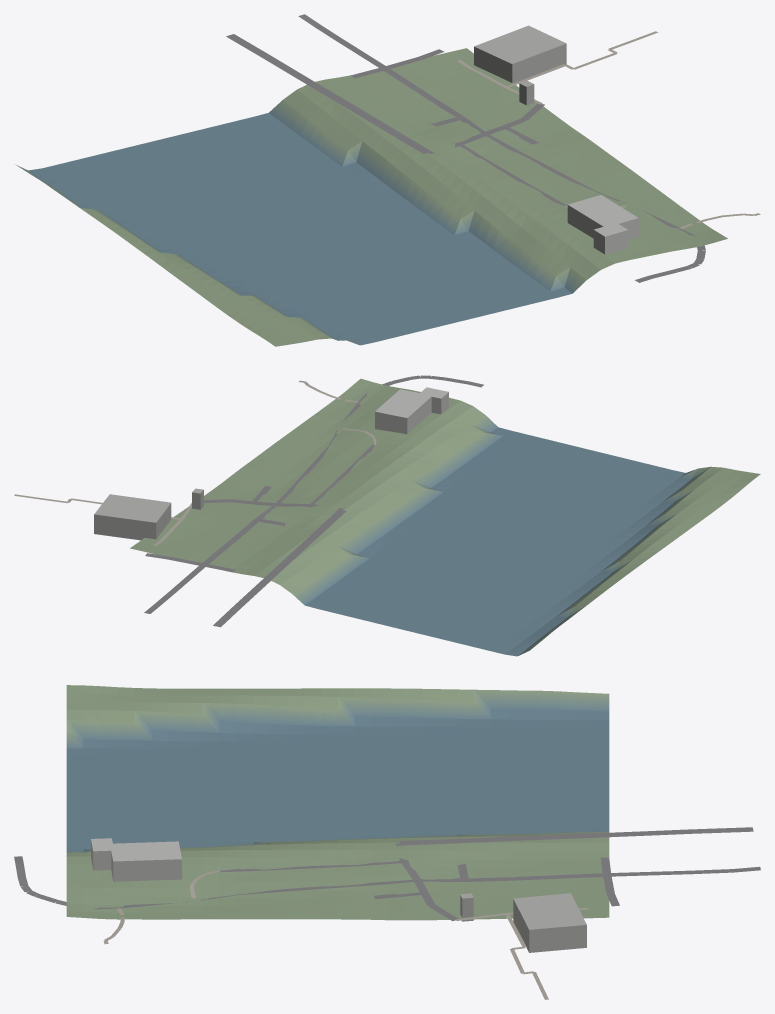
The model's file is tile_7_-6.glb.
3 renders of one model, top to bottom at view 1: azimuth 30°, elevation 25°; view 2: azimuth 150°, elevation 25°; view 3: azimuth 270°, elevation 25°, orthographic. The views are drawn at different scales.
Parts seen in each view (by area): view 1: terrain, buildings, roads; view 2: terrain, buildings, roads; view 3: terrain, buildings, roads.
Part boxes in pixels (x1,y1,x2,y2): terrain: (15,48,727,346); buildings: (474,25,638,254); roads: (226,14,760,282); terrain: (130,378,760,656); buildings: (94,387,448,540); roads: (14,375,483,627); terrain: (66,685,609,920); buildings: (91,838,586,952); roads: (14,827,760,999).
Size of the model in its own units: 347 by 20.62 by 352.
